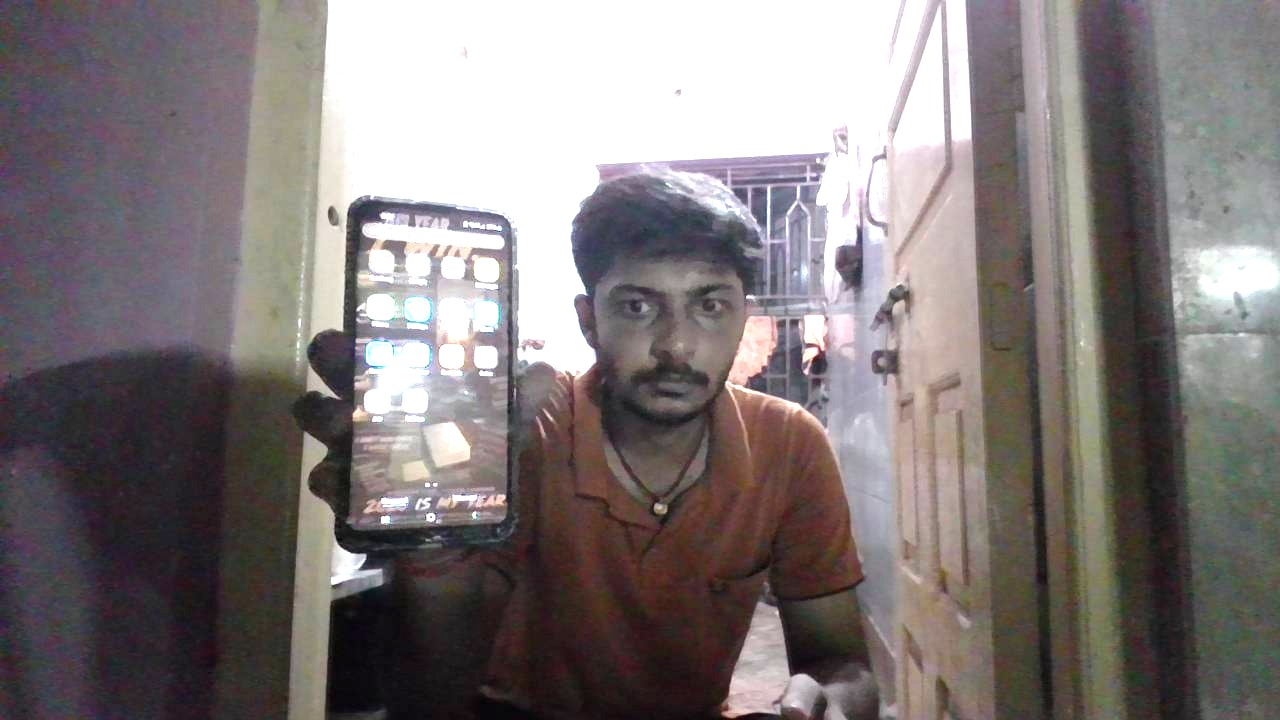red_box: (675, 399, 863, 587), (556, 469, 659, 529), (571, 505, 604, 586)
